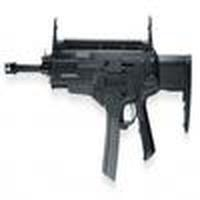gun: (1, 40, 191, 132)
